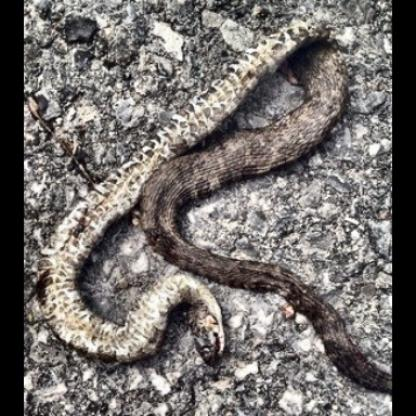Snake: (32, 15, 380, 412)
